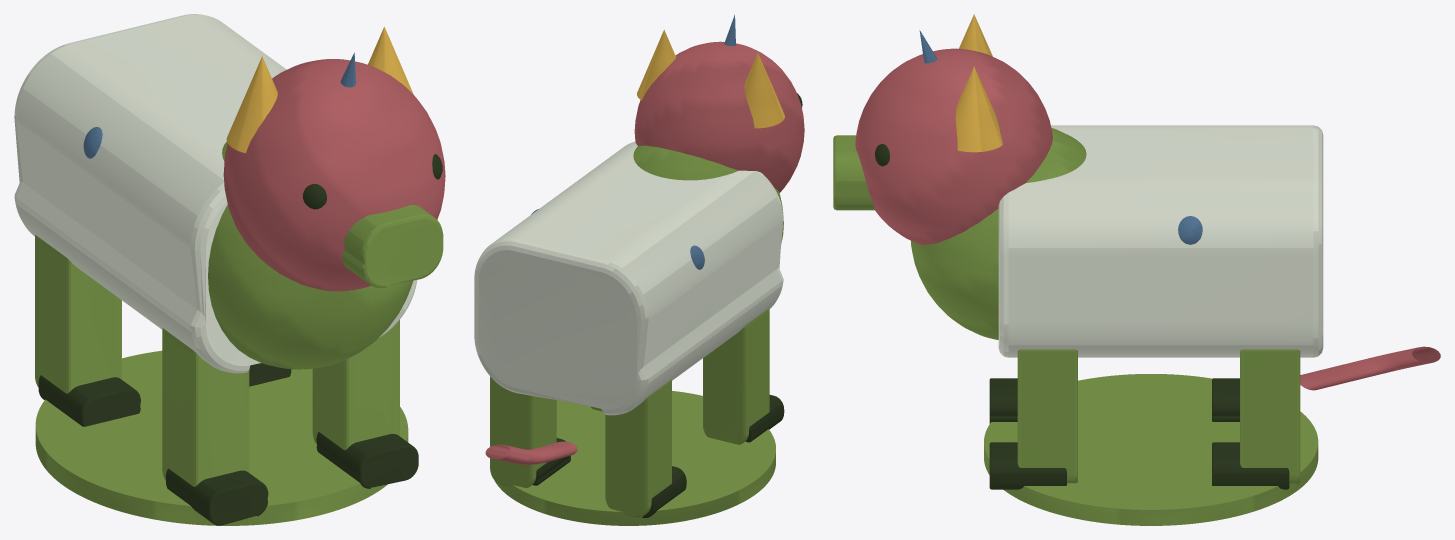
Rendered from 0830_两栖动物图鉴_圆眼珍珠蛙.glb.
3 renders of one model, left to right at view 1: azimuth 30°, elevation 25°; view 2: azimuth 150°, elevation 25°; view 3: azimuth 270°, elevation 25°, orthographic. The views are drawn at different scales.
Parts seen in each view (by area): view 1: card_0830; view 2: card_0830; view 3: card_0830.
Boxes of the visible parts, x1,y1,x2,y2 form: card_0830: (14, 14, 445, 525); card_0830: (474, 14, 804, 525); card_0830: (833, 14, 1440, 525).
Size of the model in its own units: 0.6812 by 1 by 1.28.
